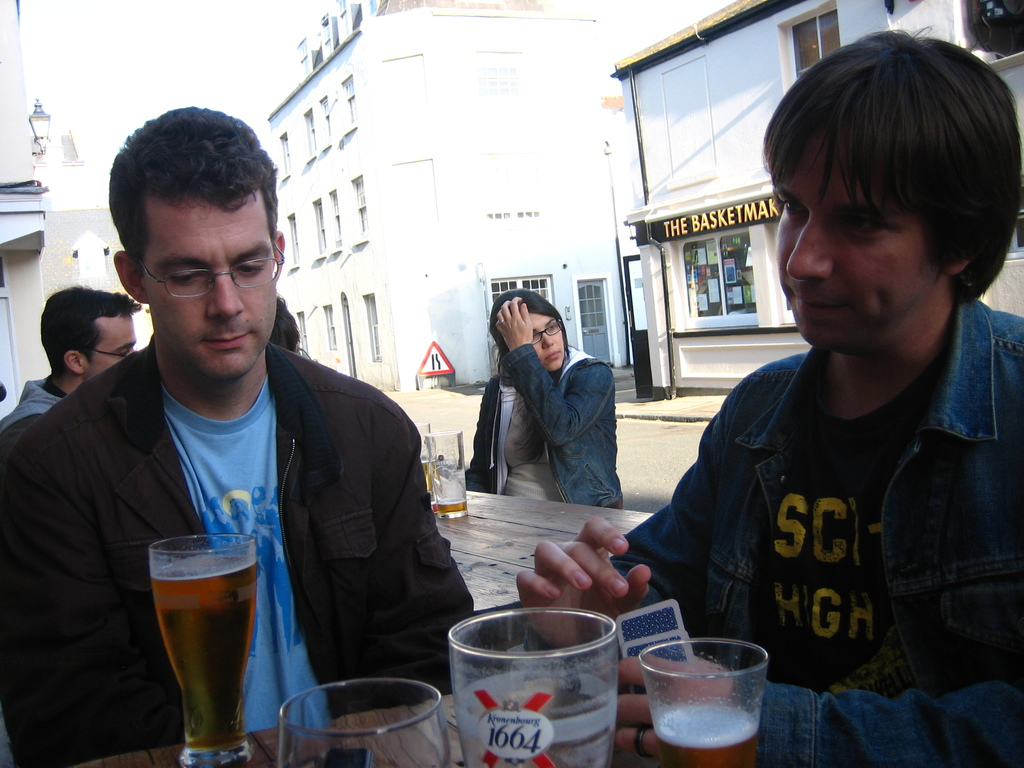Beer: (152, 561, 264, 759)
